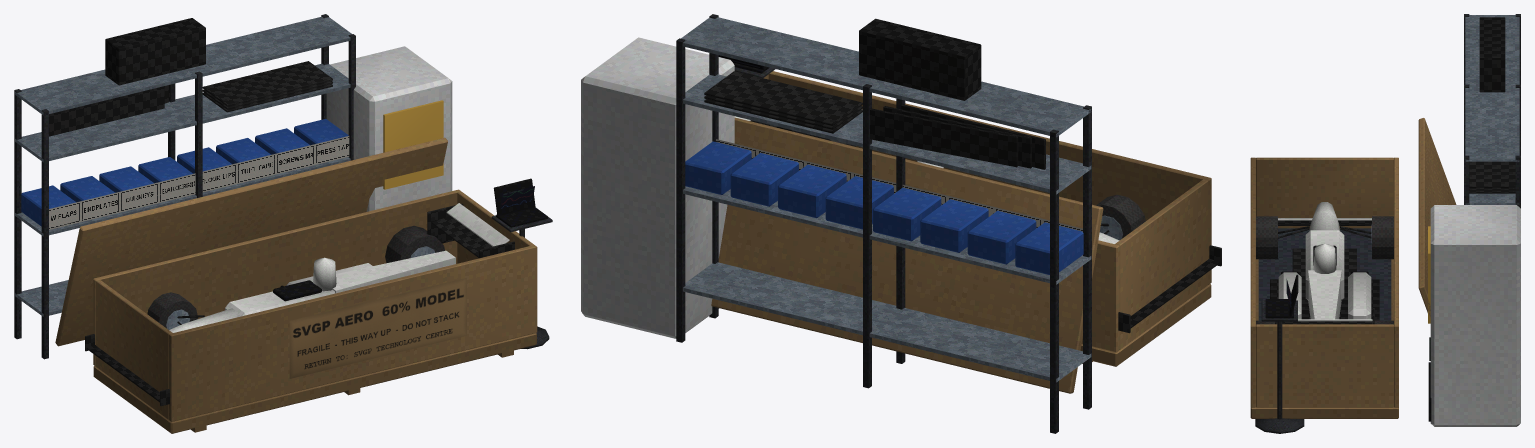
The model's file is station_tunnel.glb.
3 views of the same model, side by side, from view 1: azimuth 30°, elevation 25°; view 2: azimuth 150°, elevation 25°; view 3: azimuth 270°, elevation 25° (orthographic). The views are drawn at different scales.
Parts seen in each view (by area): view 1: Tn_Crate_Side-1, Tn_Crate_Lid, Tn_Crate_Side1, Tn_Crate_Stencil, Tn_SLA_Body, Tn_Rack_Shelf3, Tn_BinLabels, Tn_Crate_End-1, Tn_Rack_Shelf2, Tn_Crate_Base, Tn_SpareRearWing, Tn_SLA_Window (+31 smaller); view 2: Tn_Crate_Lid, Tn_SLA_Body, Tn_Rack_Shelf0, Tn_Rack_Shelf3, Tn_Crate_End-1, Tn_Crate_Side-1, Tn_SpareRearWing, Tn_Rack_Shelf2, Tn_SpareWing2, Tn_SpareFloor2, Tn_Rack_Shelf1, Tn_Rack_Up+0.9-0.1 (+22 smaller); view 3: Tn_SLA_Body, Tn_Crate_End1, Tn_Crate_End-1, Tn_Rack_Shelf3, Tn_Crate_Foam, Tn_Crate_Lid, Tn_Crate_Base, Tn_SpareRearWing, Tn_Shop_Model_EngineCover, Tn_Crate_Side-1, Tn_SpareFloor2, Tn_Shop_Model_Tub (+19 smaller).
Part boxes in pixels (x1=…): Tn_Crate_Side-1: x1=169, y1=245, x2=537, y2=421; Tn_Crate_Lid: x1=55, y1=137, x2=447, y2=346; Tn_Crate_Side1: x1=93, y1=189, x2=460, y2=366; Tn_Crate_Stencil: x1=289, y1=277, x2=466, y2=378; Tn_SLA_Body: x1=326, y1=46, x2=452, y2=211; Tn_Rack_Shelf3: x1=15, y1=16, x2=351, y2=115; Tn_BinLabels: x1=49, y1=136, x2=349, y2=229; Tn_Crate_End-1: x1=96, y1=280, x2=172, y2=419; Tn_Rack_Shelf2: x1=15, y1=63, x2=350, y2=162; Tn_Crate_Base: x1=93, y1=333, x2=536, y2=433; Tn_SpareRearWing: x1=105, y1=18, x2=205, y2=85; Tn_SLA_Window: x1=383, y1=100, x2=443, y2=189; Tn_Crate_Lid: x1=711, y1=117, x2=1103, y2=393; Tn_SLA_Body: x1=581, y1=37, x2=734, y2=338; Tn_Rack_Shelf0: x1=683, y1=262, x2=1091, y2=382; Tn_Rack_Shelf3: x1=681, y1=17, x2=1091, y2=137; Tn_Crate_End-1: x1=1115, y1=179, x2=1208, y2=349; Tn_Crate_Side-1: x1=768, y1=71, x2=1211, y2=284; Tn_SpareRearWing: x1=859, y1=18, x2=981, y2=100; Tn_Rack_Shelf2: x1=683, y1=74, x2=1091, y2=194; Tn_SpareWing2: x1=870, y1=108, x2=1018, y2=167; Tn_SpareFloor2: x1=704, y1=71, x2=862, y2=125; Tn_Rack_Shelf1: x1=683, y1=186, x2=1091, y2=284; Tn_Rack_Up+0.9-0.1: x1=676, y1=38, x2=685, y2=342; Tn_SLA_Body: x1=1430, y1=205, x2=1520, y2=426; Tn_Crate_End1: x1=1256, y1=324, x2=1393, y2=407; Tn_Crate_End-1: x1=1256, y1=157, x2=1393, y2=228; Tn_Rack_Shelf3: x1=1465, y1=15, x2=1519, y2=161; Tn_Crate_Foam: x1=1258, y1=228, x2=1391, y2=320; Tn_Crate_Lid: x1=1418, y1=118, x2=1456, y2=316; Tn_Crate_Base: x1=1250, y1=259, x2=1398, y2=418; Tn_SpareRearWing: x1=1479, y1=17, x2=1505, y2=92; Tn_Shop_Model_EngineCover: x1=1308, y1=270, x2=1341, y2=319; Tn_Crate_Side-1: x1=1250, y1=157, x2=1255, y2=407; Tn_SpareFloor2: x1=1469, y1=161, x2=1515, y2=187; Tn_Shop_Model_Tub: x1=1305, y1=230, x2=1344, y2=300.
Size of the model in its own units: 3.42 by 2.3 by 2.1.
24 materials, 23 textured.
